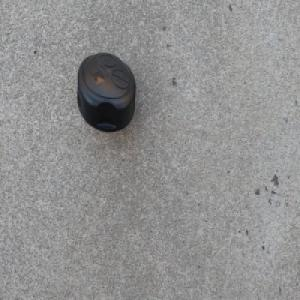FuelCap: (76, 50, 136, 136)
